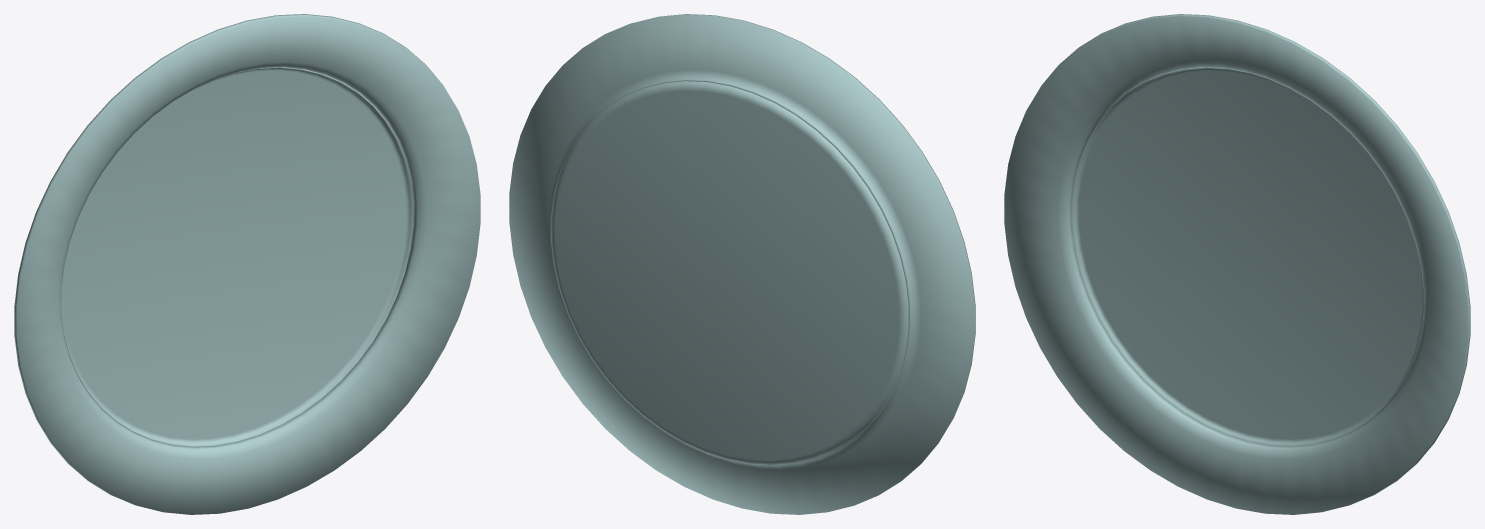
3 renders of one model, left to right at view 1: azimuth 30°, elevation 25°; view 2: azimuth 150°, elevation 25°; view 3: azimuth 330°, elevation 25°, orthographic.
Bounding box in the file's own units: 0.998 × 1 × 0.0625.
